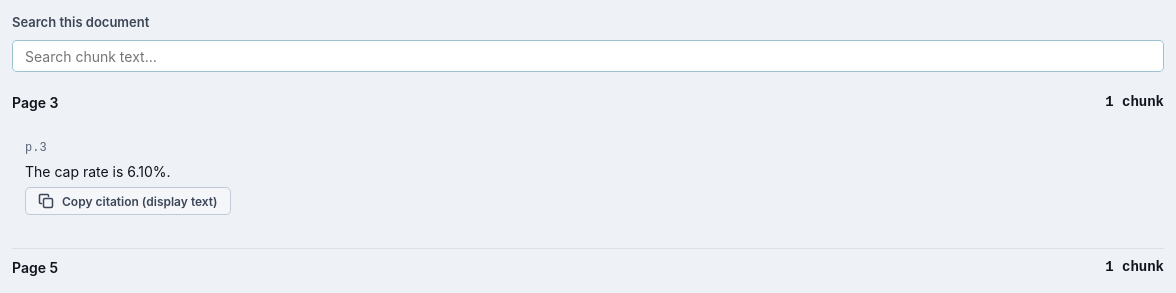
Scenario: EvidenceReader › shows a match that lives in a later group without requiring a click
Check: the text "Page 3" is shown, box [12, 92, 58, 114]
Step 1. Type "occupancy" into the search field labelled "Search this document" → (588, 56), box [12, 40, 1164, 72]
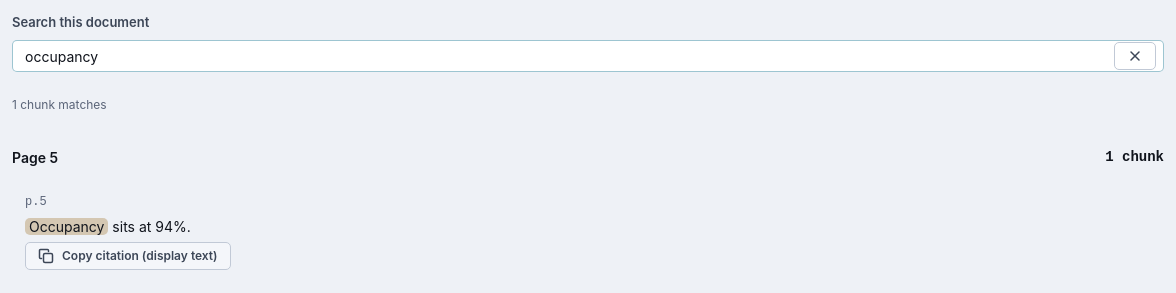
Check: the heading "Page 3" is gone
Check: the text "Occupancy" is shown, box [25, 218, 108, 235]
